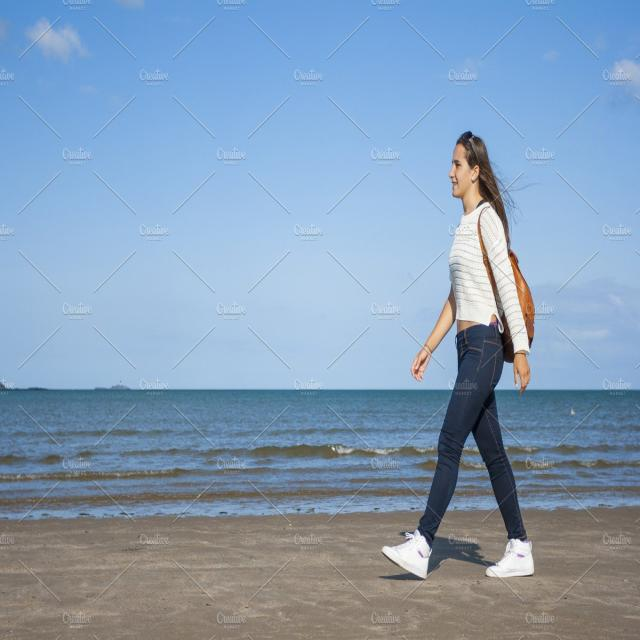Person: (380, 130, 534, 576)
